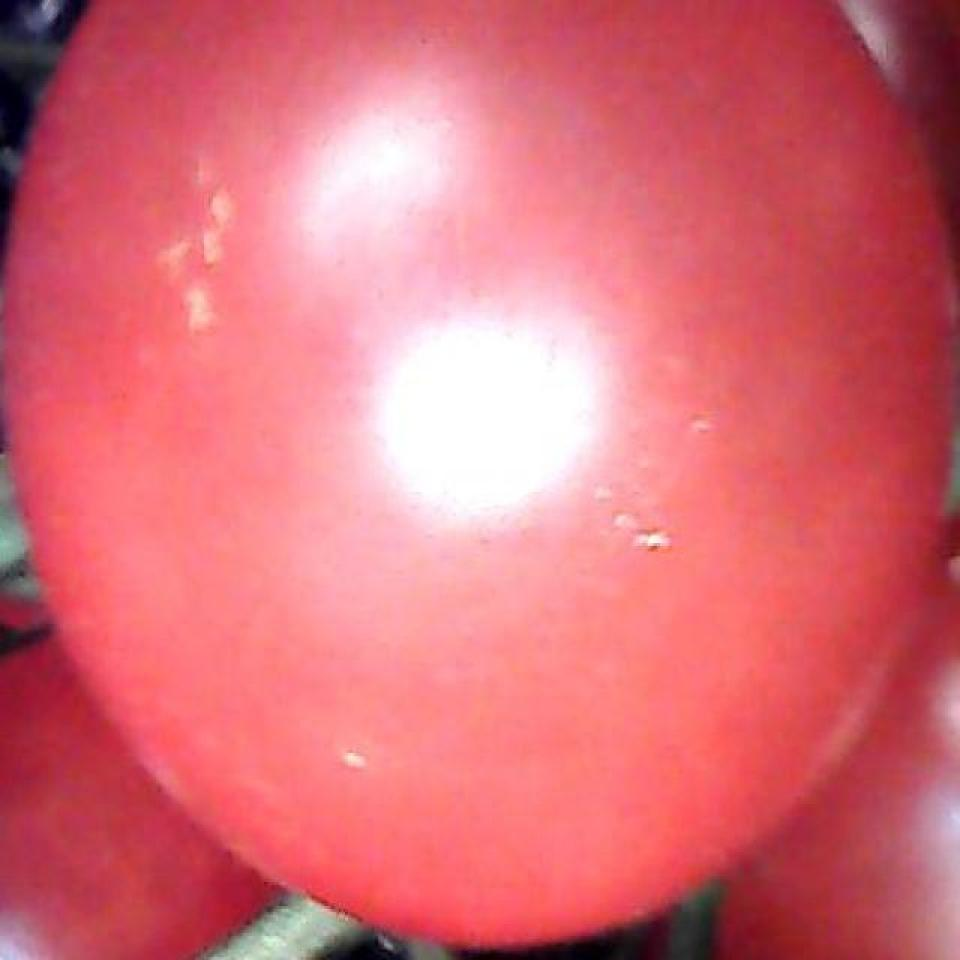Healthy: (36, 15, 960, 948)
